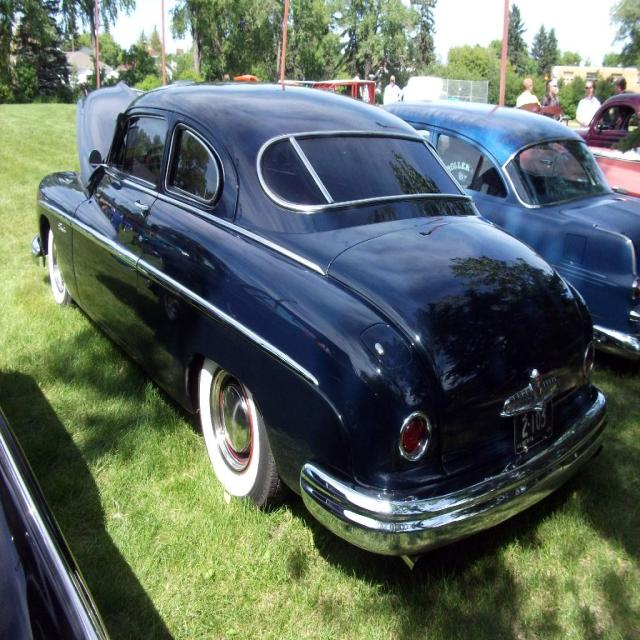car: (30, 78, 612, 575)
